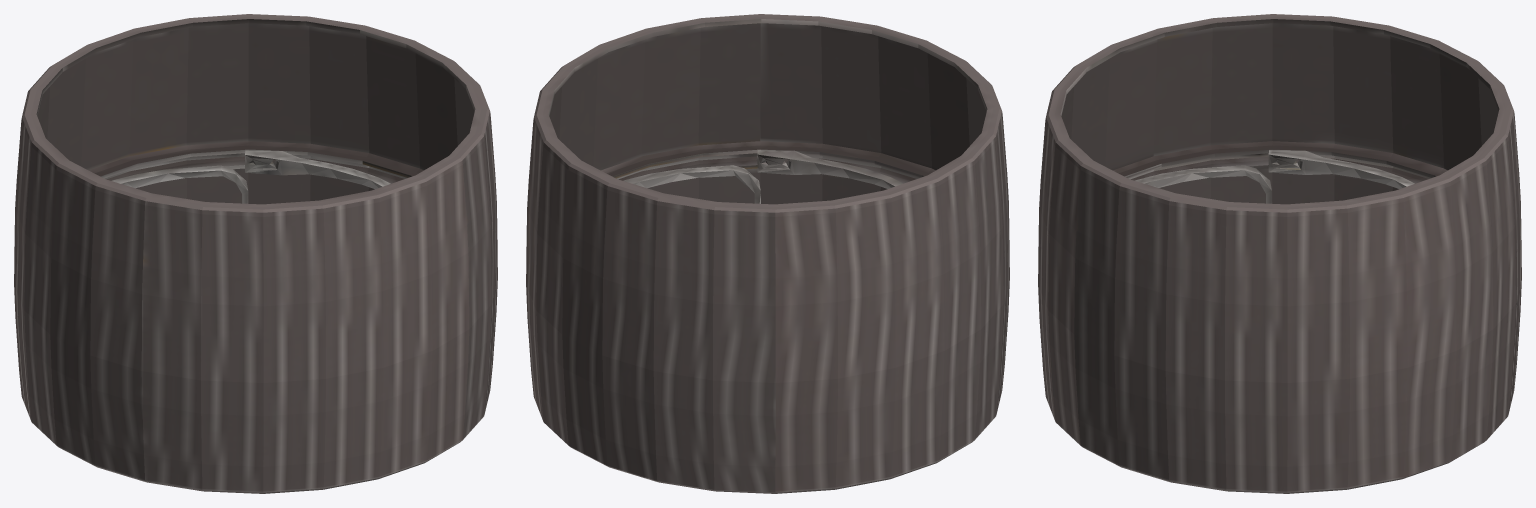
The model's file is wheel_rm.obj.
The picture shows the model from 3 angles, left to right: view 1: azimuth 30°, elevation 25°; view 2: azimuth 150°, elevation 25°; view 3: azimuth 270°, elevation 25°; orthographic projection.
Size of the model in its own units: 0.5096 by 0.3306 by 0.5096.
1 material, 1 textured.
